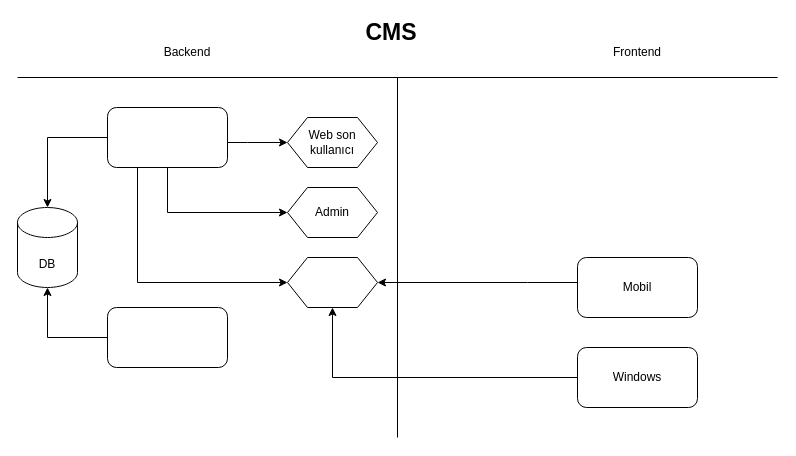
Some shapes in this 796 by 456 pixel diagram are drawn without their labels. The centre of each missing label's shape, as x and y in pixels:
Console: the point at 167,337
MVC: the point at 167,137
Web API: the point at 332,282
